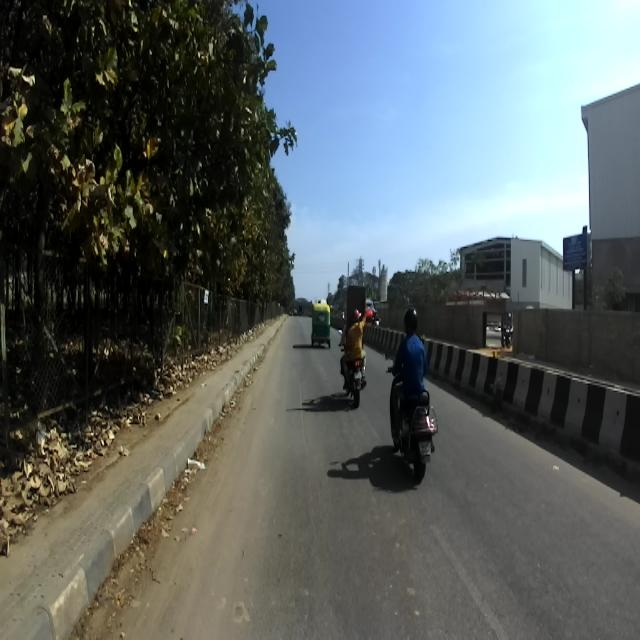motorcycle ahead at: (386, 394, 439, 476)
